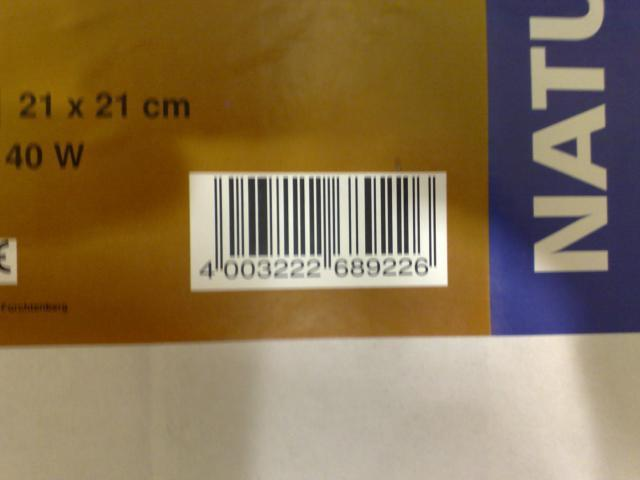Barcode: (188, 171, 450, 289)
